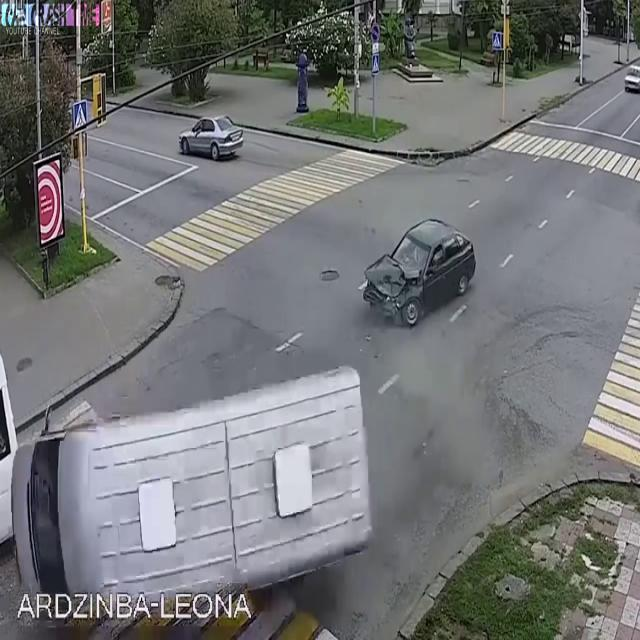accident: (0, 187, 612, 640)
